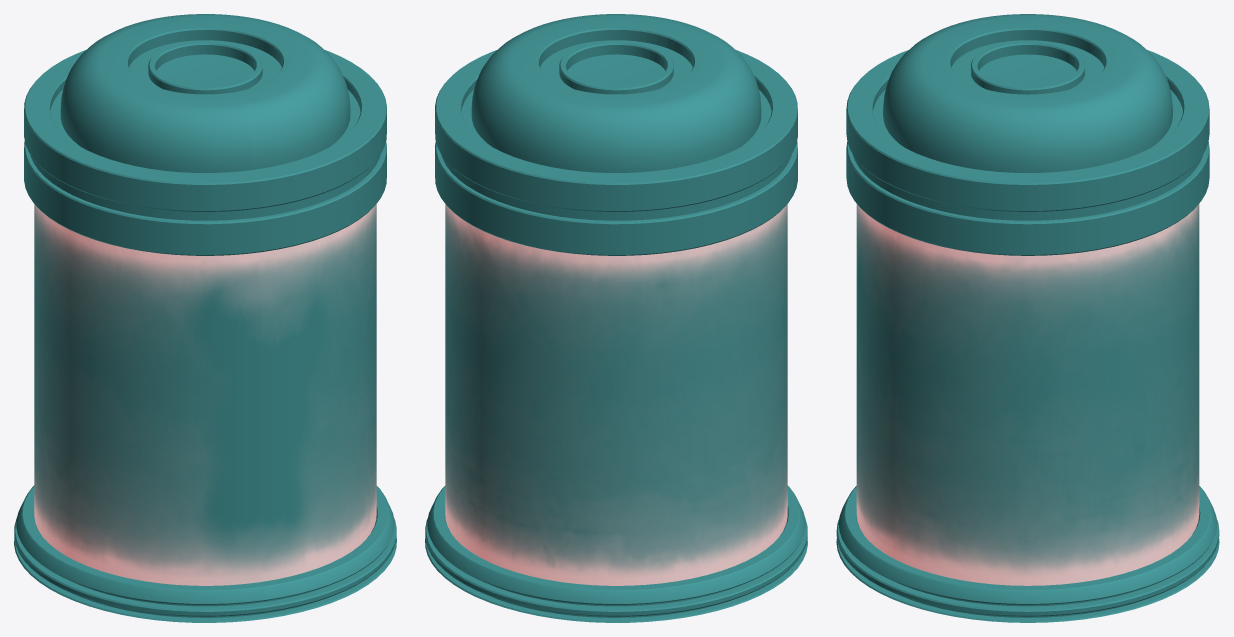
The model's file is cylender.fbx.
3 views of the same model, side by side, from view 1: azimuth 30°, elevation 25°; view 2: azimuth 150°, elevation 25°; view 3: azimuth 270°, elevation 25° (orthographic).
Visible parts, largest first — view 1: Object_6, Object_7.001, Object_7; view 2: Object_6, Object_7.001, Object_7; view 3: Object_6, Object_7.001, Object_7.
Boxes of the visible parts, bbox=[...] form: Object_6: bbox=[34, 204, 376, 585]; Object_7.001: bbox=[24, 14, 386, 255]; Object_7: bbox=[14, 485, 396, 622]; Object_6: bbox=[445, 204, 787, 585]; Object_7.001: bbox=[435, 14, 797, 255]; Object_7: bbox=[425, 485, 807, 622]; Object_6: bbox=[856, 204, 1199, 585]; Object_7.001: bbox=[846, 14, 1209, 255]; Object_7: bbox=[836, 486, 1219, 622].
Bounding box in the file's own units: 136 × 188 × 136.
Materials: 2 (2 with a texture image).
